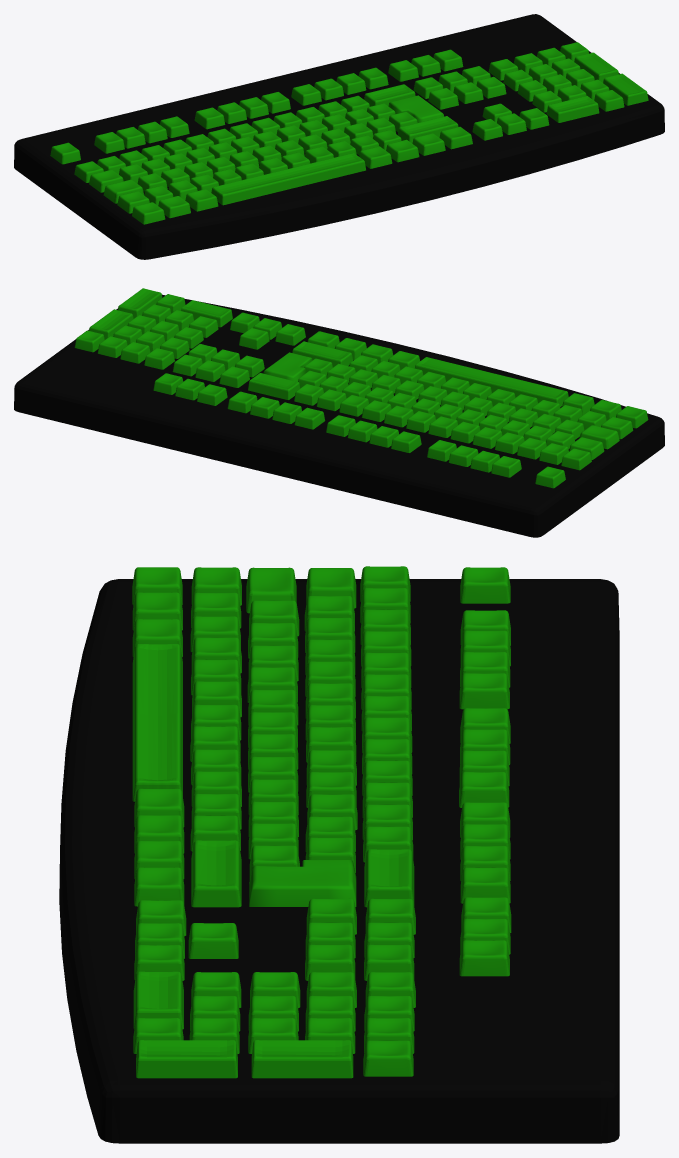
Rendered from Keyboard.fbx.
3 views of the same model, one above another, from view 1: azimuth 30°, elevation 25°; view 2: azimuth 150°, elevation 25°; view 3: azimuth 270°, elevation 25° (orthographic). The views are drawn at different scales.
Parts seen in each view (by area): view 1: Object099; view 2: Object099; view 3: Object099.
Part boxes in pixels (x1=…): Object099: x1=14, y1=14, x2=664, y2=259; Object099: x1=14, y1=288, x2=664, y2=537; Object099: x1=59, y1=566, x2=619, y2=1143.
Bounding box in the file's own units: 47 × 3.18 × 21.61.
